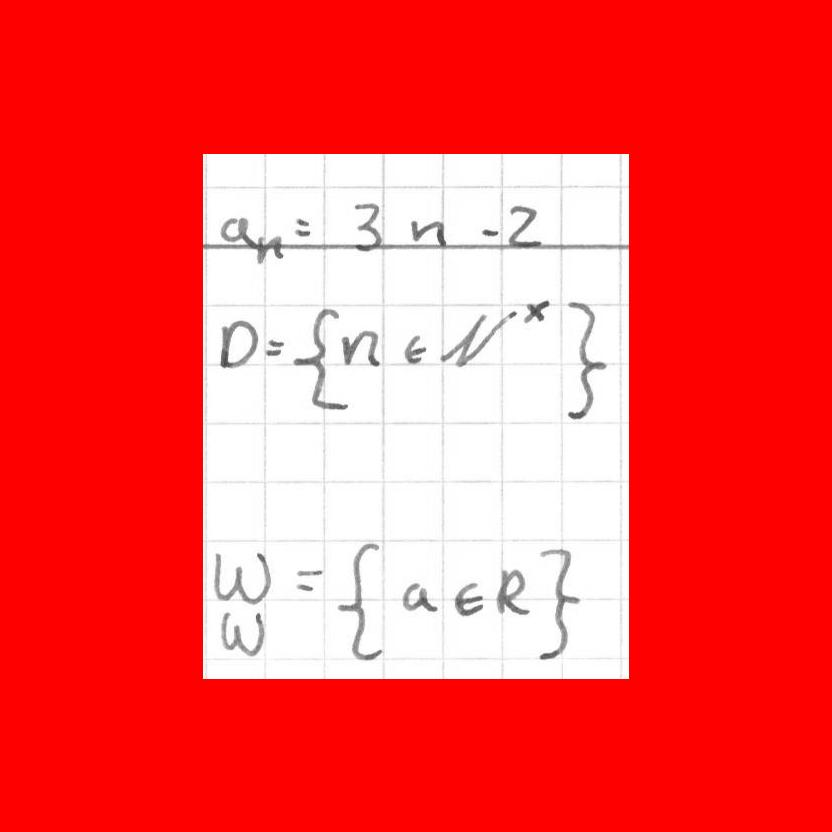Char: (335, 540, 390, 665), (557, 297, 611, 422), (198, 239, 634, 253), (289, 305, 343, 415), (532, 544, 583, 660), (439, 303, 519, 371), (211, 547, 272, 605), (215, 607, 275, 657), (215, 313, 259, 370), (491, 564, 530, 618), (348, 199, 386, 254), (341, 326, 382, 369), (504, 205, 543, 250), (405, 214, 450, 251), (399, 578, 440, 614), (218, 211, 255, 248), (453, 579, 487, 618), (287, 563, 327, 594), (402, 330, 430, 369), (255, 227, 284, 264), (521, 295, 548, 324), (287, 212, 313, 238), (262, 336, 284, 359), (478, 222, 497, 238)
